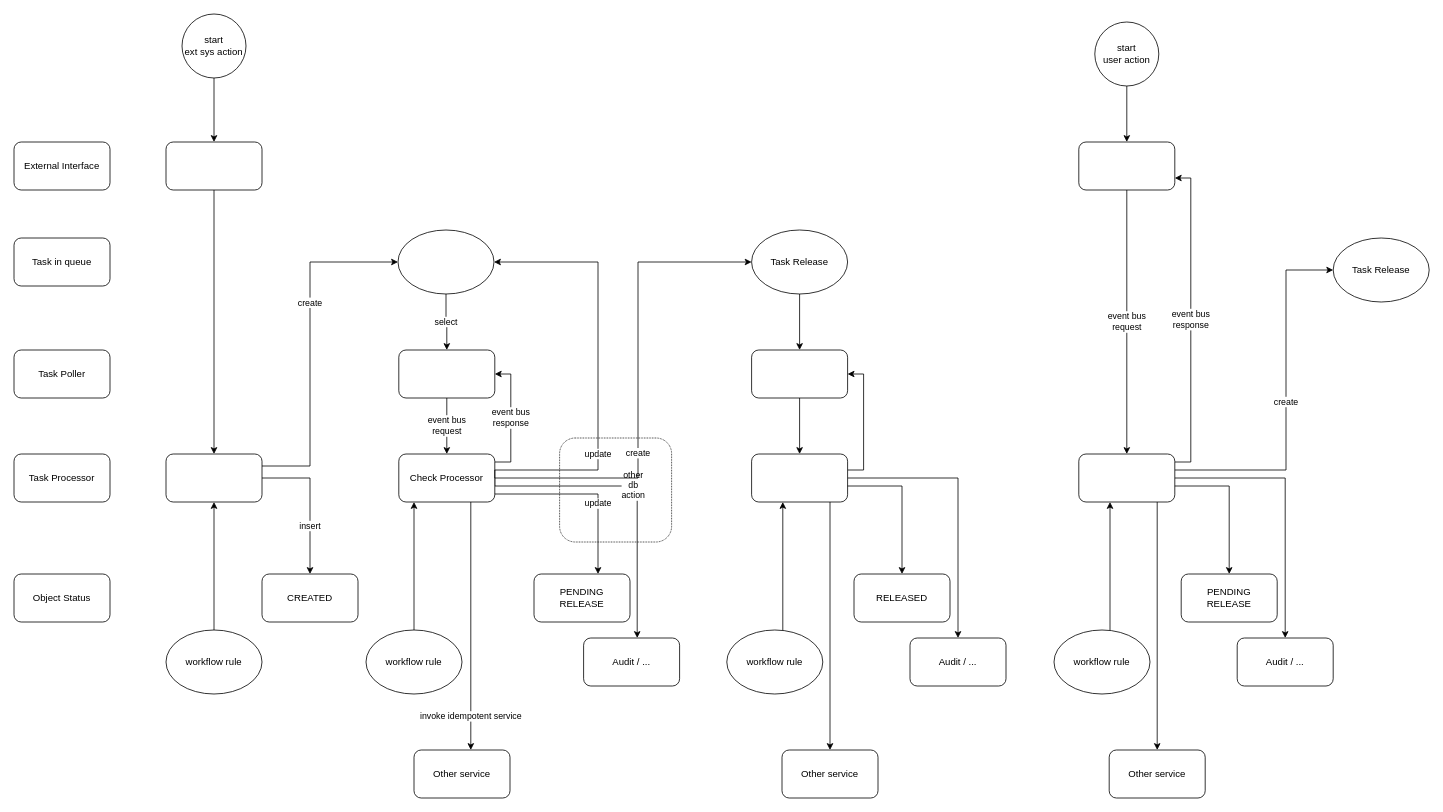
This 1443x812 diagram has some shape labels left out. The centre of each missing label's shape, as x and y in pixels:
"Create Endpoint" belongs at [213,165].
"Create Processor" belongs at [213,477].
"Manual Release Endpoint" belongs at [1126,165].
"Manual Release Processor" belongs at [1126,477].
"Poller payment.check" belongs at [446,373].
"Poller payment.release" belongs at [799,373].
"Release Processor" belongs at [799,477].
"Task Check" belongs at [445,261].
"txn" belongs at [615,489].
